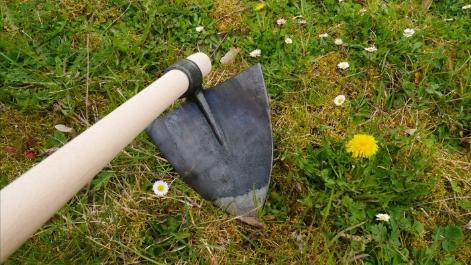HOUE: (1, 1, 275, 265)
